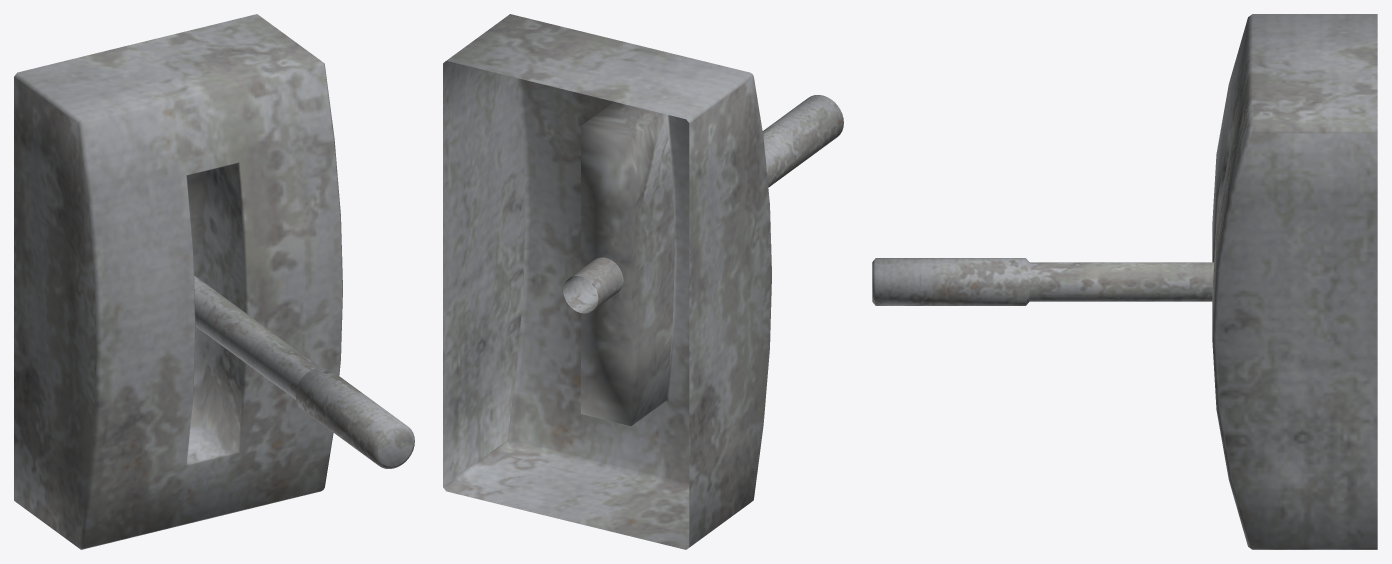
File: lever.gltf
3 views of the same model, side by side, from view 1: azimuth 30°, elevation 25°; view 2: azimuth 150°, elevation 25°; view 3: azimuth 270°, elevation 25° (orthographic). The views are drawn at different scales.
Visible parts, largest first — view 1: Block, Handle; view 2: Block, Handle; view 3: Block, Handle.
Boxes of the visible parts, box(x1,y1,x2,y2) form: Block: box(14, 14, 342, 549); Handle: box(194, 275, 414, 468); Block: box(443, 14, 771, 549); Handle: box(563, 95, 843, 313); Block: box(1212, 14, 1377, 549); Handle: box(872, 258, 1214, 305).
Bounding box in the file's own units: 0.2994 × 0.5 × 0.5435.
1 material, 1 textured.
